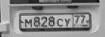license-plateSW: (20, 14, 90, 28)
